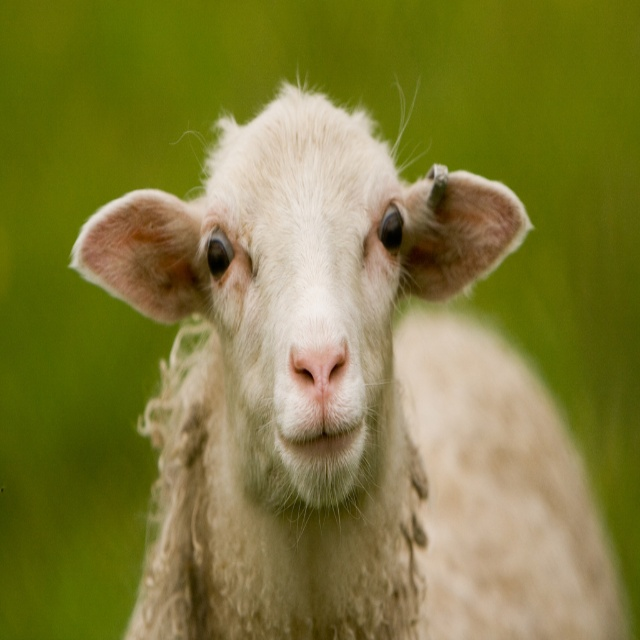Sheep: (67, 62, 629, 640)
